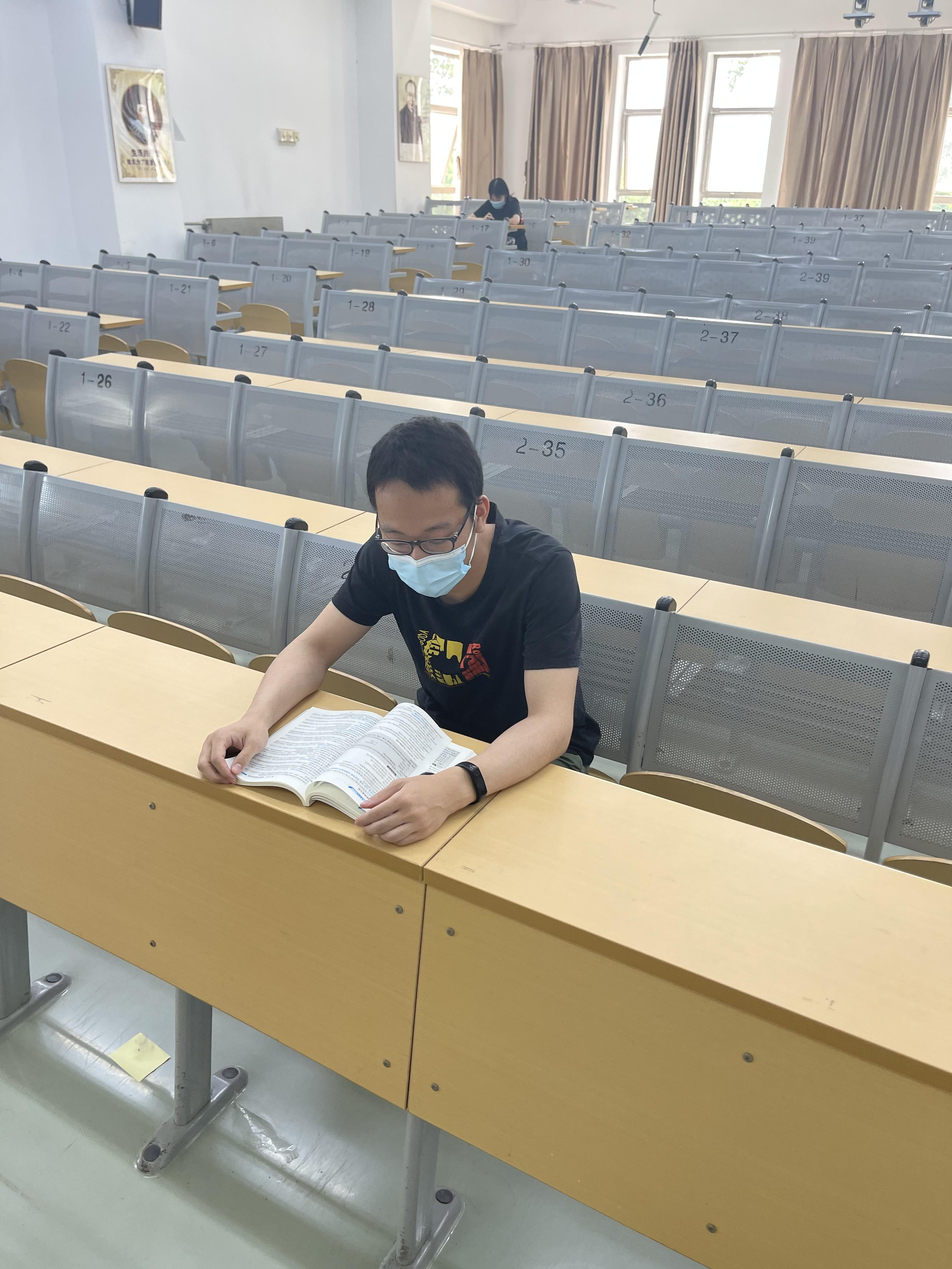study: (199, 419, 584, 842)
